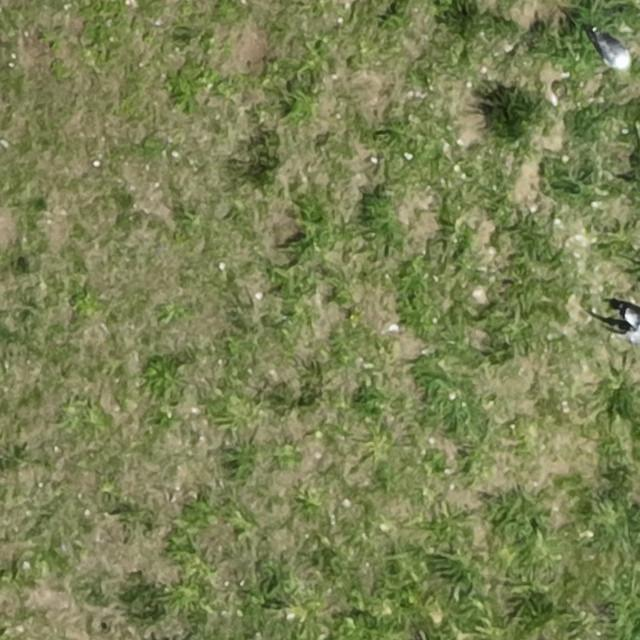umineko: (600, 37, 631, 70), (624, 308, 639, 334)
